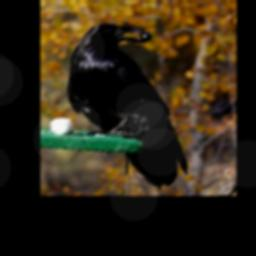Crow: (66, 23, 188, 188)
